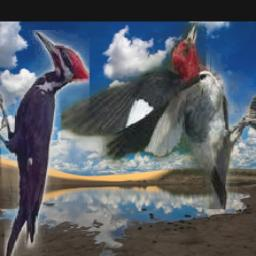Woodpecker: (61, 22, 256, 209), (0, 31, 90, 256)
